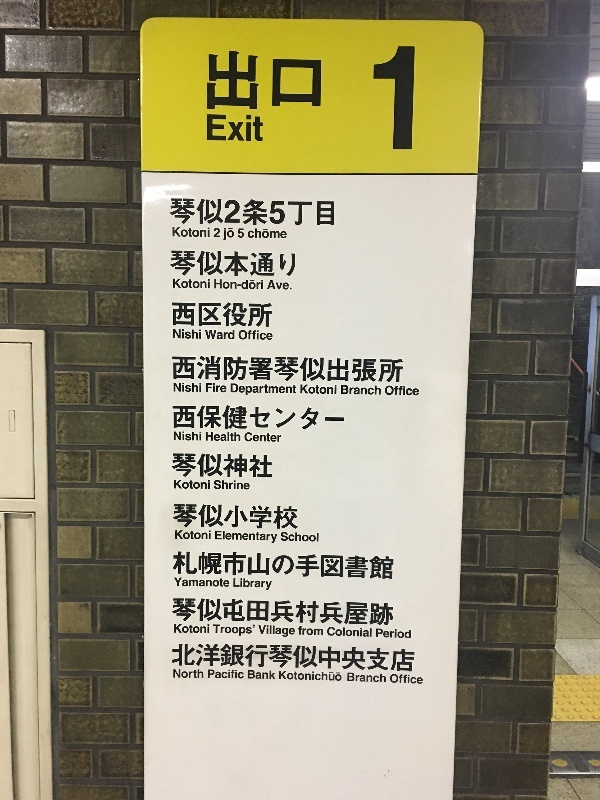text: (401, 44, 417, 152), (385, 44, 400, 152), (374, 44, 384, 152), (209, 51, 224, 113), (225, 51, 240, 113), (241, 51, 256, 113), (273, 58, 288, 110), (289, 58, 304, 110), (305, 58, 320, 110), (209, 113, 224, 146), (225, 113, 240, 146), (241, 113, 256, 146), (177, 197, 192, 230), (193, 197, 208, 230), (209, 197, 224, 230), (225, 197, 240, 230), (241, 197, 256, 230), (257, 197, 272, 230), (273, 197, 288, 230), (289, 197, 304, 230), (305, 197, 320, 230), (177, 249, 192, 281), (193, 249, 208, 281), (209, 249, 224, 281), (225, 249, 240, 281), (241, 249, 256, 281), (257, 249, 272, 281), (273, 249, 288, 281), (321, 197, 335, 230), (177, 552, 192, 581), (193, 552, 208, 581), (209, 552, 224, 581), (225, 552, 240, 581), (241, 552, 256, 581), (257, 552, 272, 581), (273, 552, 288, 581), (289, 552, 304, 581), (305, 552, 320, 581), (321, 552, 336, 581), (337, 552, 352, 581), (353, 552, 368, 581), (369, 552, 384, 581), (177, 597, 192, 626), (193, 597, 208, 626), (209, 597, 224, 626), (225, 597, 240, 626), (241, 597, 256, 626), (257, 597, 272, 626), (273, 597, 288, 626), (289, 597, 304, 626), (305, 597, 320, 626), (321, 597, 336, 626), (337, 597, 352, 626), (353, 597, 368, 626), (369, 597, 384, 626), (177, 645, 192, 674), (193, 645, 208, 674), (209, 645, 224, 674), (225, 645, 240, 674), (241, 645, 256, 674), (257, 645, 272, 674), (273, 645, 288, 674), (289, 645, 304, 674), (305, 645, 320, 674), (321, 645, 336, 674), (337, 645, 352, 674), (353, 645, 368, 674), (369, 645, 384, 674), (385, 645, 400, 674), (401, 645, 416, 674), (257, 454, 273, 480), (177, 302, 192, 329), (193, 302, 208, 329), (209, 302, 224, 329), (225, 302, 240, 329), (241, 302, 256, 329), (257, 302, 272, 329), (177, 357, 192, 383), (193, 357, 208, 383), (209, 357, 224, 383), (225, 357, 240, 383), (241, 357, 256, 383), (257, 357, 272, 383), (273, 357, 288, 383), (289, 357, 304, 383), (305, 357, 320, 383), (321, 357, 336, 383), (337, 357, 352, 383), (353, 357, 368, 383), (369, 357, 384, 383), (385, 357, 400, 383), (177, 405, 192, 431), (193, 405, 208, 431), (209, 405, 224, 431), (225, 405, 240, 431), (241, 405, 256, 431), (257, 405, 272, 431), (273, 405, 288, 431), (289, 405, 304, 431), (305, 405, 320, 431), (321, 405, 336, 431), (177, 454, 192, 480), (193, 454, 208, 480), (209, 454, 224, 480), (225, 454, 240, 480), (241, 454, 256, 480), (177, 504, 192, 530), (193, 504, 208, 530), (209, 504, 224, 530), (225, 504, 240, 530), (241, 504, 256, 530), (257, 504, 272, 530), (273, 504, 288, 530), (289, 249, 301, 281), (385, 552, 394, 581), (385, 597, 394, 626), (177, 227, 192, 243), (193, 227, 208, 243), (289, 504, 298, 530), (257, 113, 264, 146), (169, 197, 176, 230), (257, 229, 272, 244), (273, 229, 287, 244), (225, 279, 240, 293), (241, 279, 256, 293), (401, 673, 416, 687), (337, 405, 345, 431), (225, 531, 240, 544), (241, 531, 256, 544), (257, 531, 272, 544), (241, 578, 256, 591), (257, 578, 272, 591), (273, 625, 288, 638), (289, 671, 304, 684), (305, 671, 320, 684), (321, 671, 336, 684), (170, 249, 176, 281), (177, 280, 192, 292), (193, 280, 208, 292), (241, 384, 256, 396), (257, 384, 272, 396), (273, 384, 288, 396), (385, 385, 400, 397), (401, 385, 416, 397), (353, 673, 368, 685), (369, 673, 384, 685), (257, 330, 273, 341), (225, 227, 235, 244), (259, 625, 272, 638), (273, 280, 288, 291), (209, 330, 224, 341), (241, 330, 256, 341), (177, 431, 192, 442), (177, 577, 192, 588), (193, 577, 208, 588), (209, 577, 224, 588), (225, 625, 240, 636), (241, 625, 256, 636), (337, 627, 352, 638), (353, 627, 368, 638), (385, 628, 400, 639), (177, 669, 192, 680), (257, 670, 272, 681), (321, 384, 337, 394), (177, 330, 192, 340), (177, 383, 192, 393), (209, 383, 224, 393), (305, 384, 320, 394), (353, 385, 368, 395), (209, 432, 224, 442), (225, 432, 240, 442), (177, 480, 192, 490), (193, 480, 208, 490), (225, 480, 240, 490), (289, 533, 304, 543), (305, 626, 320, 636), (209, 670, 224, 680), (225, 670, 240, 680), (214, 225, 224, 239), (214, 279, 224, 293), (305, 533, 319, 543), (390, 673, 400, 687), (257, 433, 272, 442), (177, 531, 192, 540), (193, 531, 208, 540), (257, 51, 259, 113), (213, 625, 224, 636), (193, 669, 204, 680), (248, 229, 256, 244), (369, 385, 381, 395), (177, 625, 192, 633), (193, 625, 208, 633), (215, 531, 224, 544), (172, 645, 176, 674), (225, 330, 235, 341), (341, 385, 352, 395), (401, 628, 411, 639), (172, 302, 176, 329), (231, 384, 240, 396), (244, 433, 256, 442), (172, 357, 176, 383), (401, 357, 405, 383), (172, 405, 176, 431), (172, 454, 176, 480), (289, 625, 297, 638), (280, 671, 288, 684), (214, 480, 224, 490), (193, 431, 202, 442), (327, 627, 336, 638), (257, 279, 264, 293), (417, 673, 424, 687), (289, 384, 297, 396), (193, 330, 202, 340), (193, 383, 202, 393), (273, 433, 283, 442), (241, 480, 250, 490), (376, 628, 384, 639), (248, 670, 256, 681), (234, 578, 240, 591), (281, 533, 288, 543), (206, 113, 208, 146), (273, 531, 278, 544), (337, 671, 342, 684), (298, 626, 304, 636), (347, 673, 352, 685), (174, 552, 176, 581), (174, 597, 176, 626), (225, 577, 230, 588), (321, 58, 322, 110), (174, 504, 176, 530), (173, 227, 176, 243), (241, 229, 245, 241), (289, 280, 293, 291), (241, 670, 245, 680), (173, 280, 176, 292), (417, 385, 420, 397), (385, 673, 388, 685), (205, 330, 208, 341), (369, 627, 372, 638), (273, 670, 276, 681), (209, 227, 211, 243), (173, 330, 176, 340), (301, 384, 304, 394), (321, 626, 324, 636), (209, 280, 211, 292), (270, 280, 272, 291), (174, 431, 176, 442), (174, 577, 176, 588), (174, 669, 176, 680), (174, 383, 176, 393), (206, 383, 208, 393), (225, 383, 227, 393), (206, 432, 208, 442), (174, 480, 176, 490), (209, 531, 211, 540), (223, 227, 224, 244), (239, 229, 240, 241), (239, 330, 240, 341), (209, 480, 210, 490), (175, 625, 176, 633), (209, 625, 210, 633)
